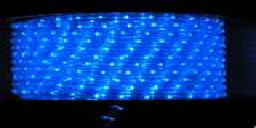LED: (8, 14, 231, 97)
